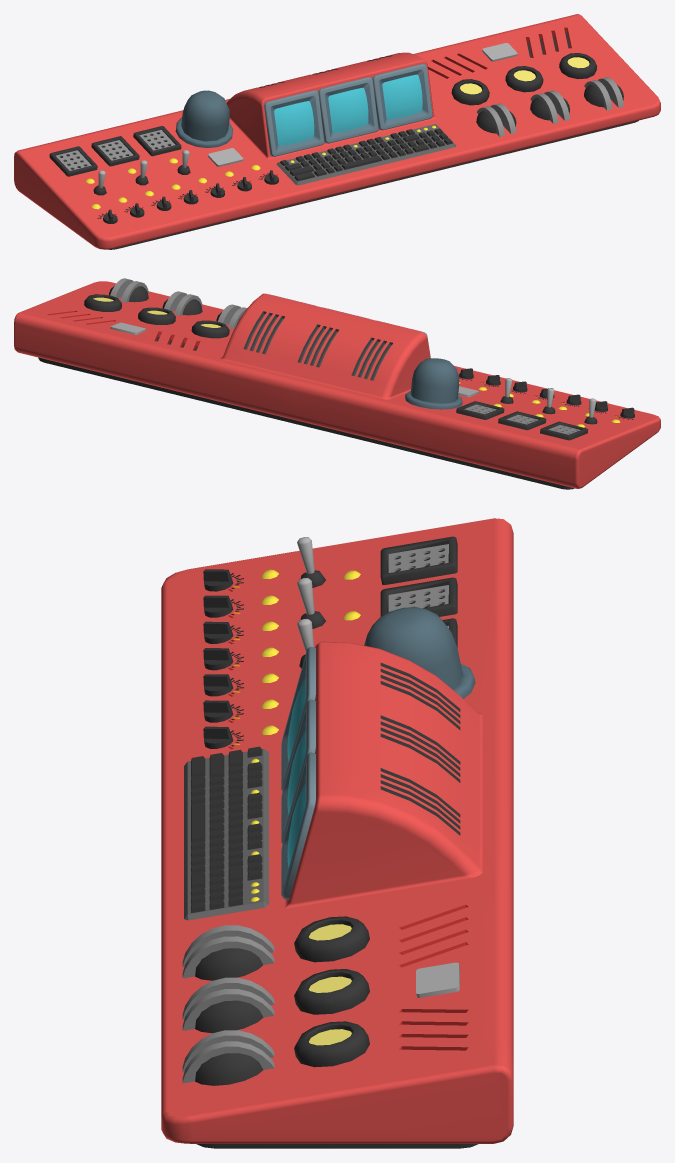
Rendered from terminal_2_001.fbx.
The picture shows the model from 3 angles, top to bottom: view 1: azimuth 30°, elevation 25°; view 2: azimuth 150°, elevation 25°; view 3: azimuth 270°, elevation 25°; orthographic projection. The views are drawn at different scales.
Visible parts, largest first — view 1: terminal_2_001; view 2: terminal_2_001; view 3: terminal_2_001.
Boxes of the visible parts, x1,y1,x2,y2 form: terminal_2_001: [14, 14, 660, 249]; terminal_2_001: [14, 278, 660, 489]; terminal_2_001: [161, 518, 513, 1148].
Bounding box in the file's own units: 1051 × 284 × 149.
